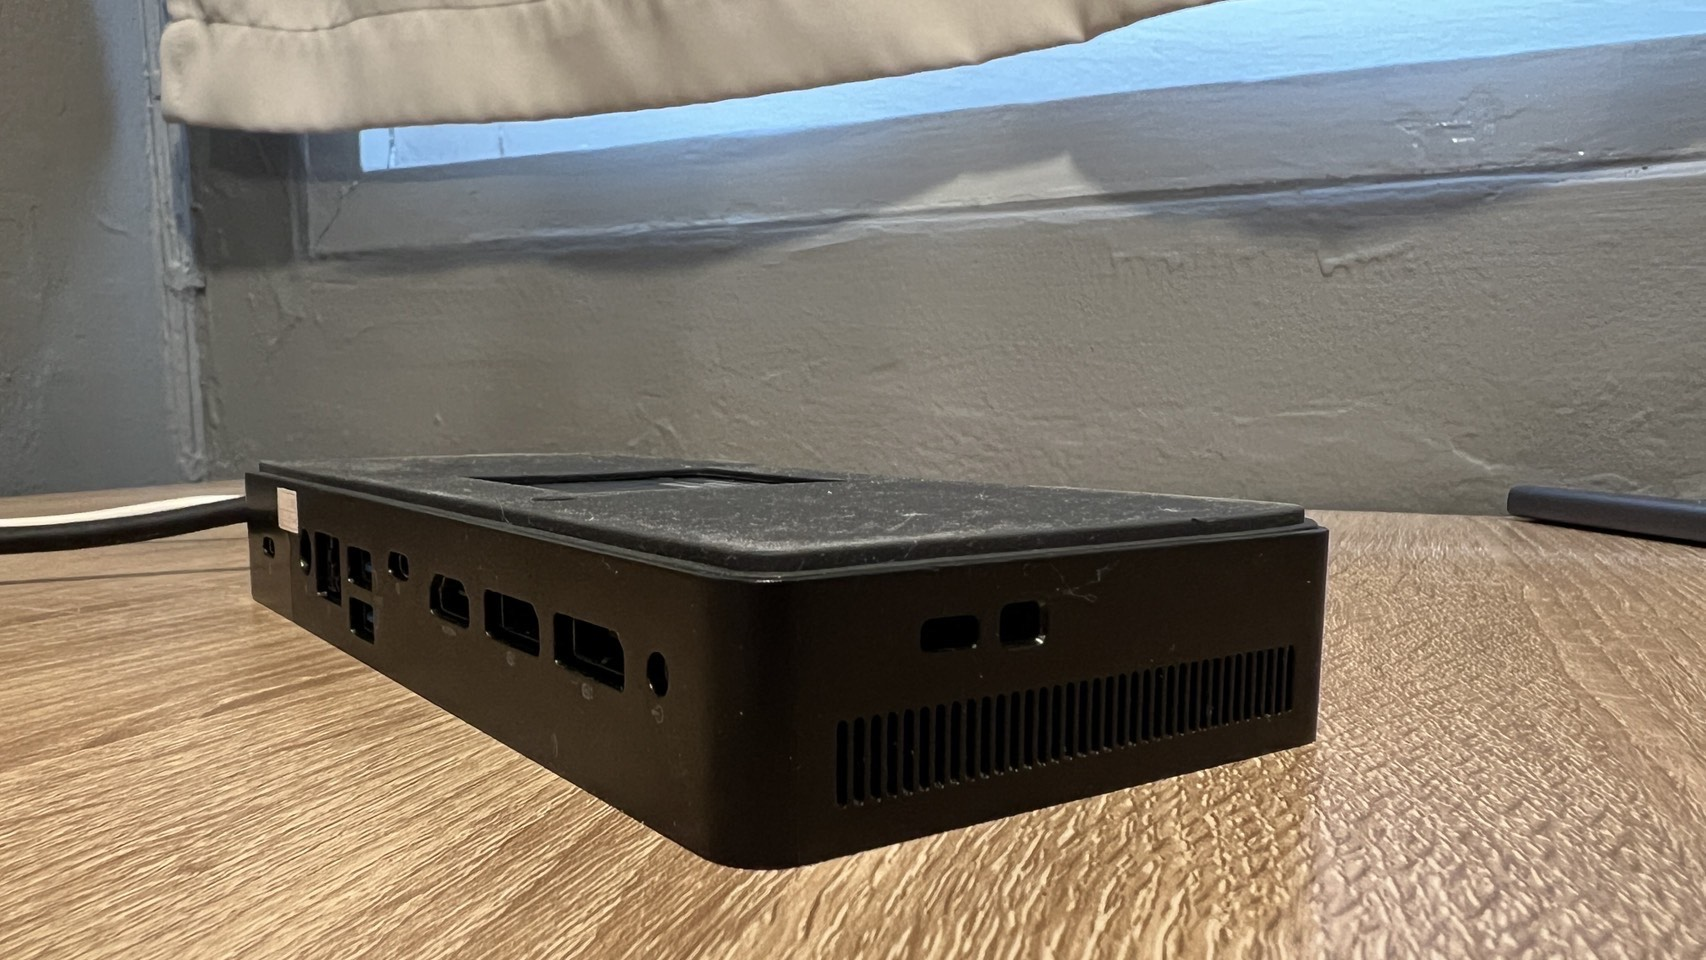front: (241, 474, 726, 867)
side: (784, 532, 1329, 867)
top: (262, 451, 1302, 556)
